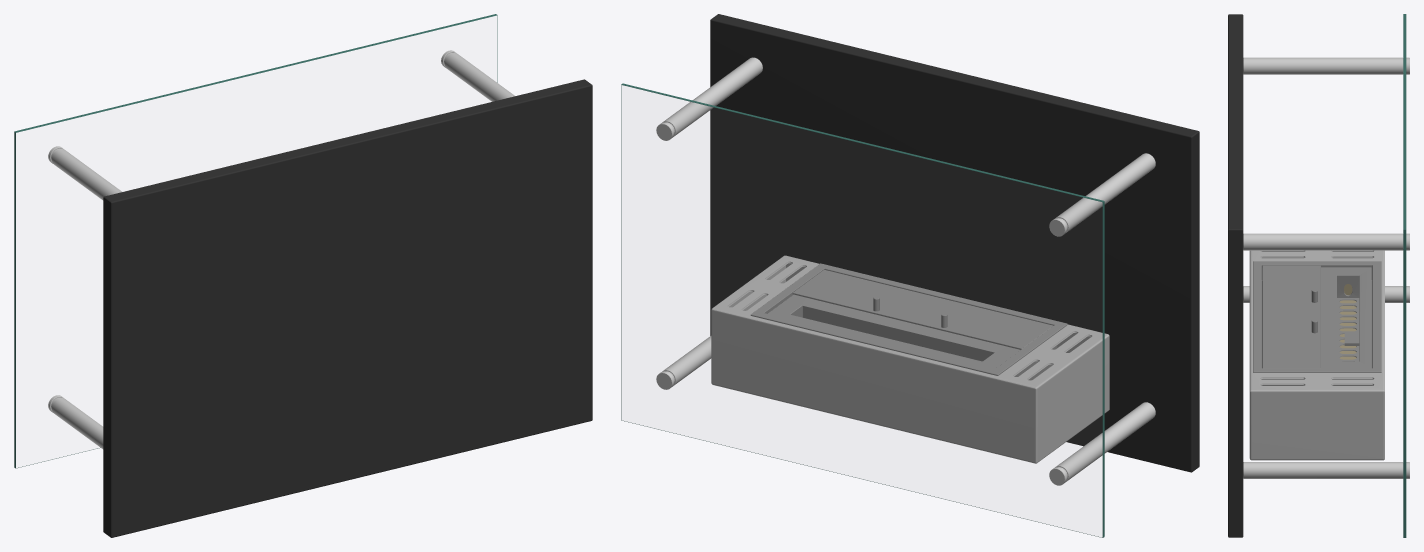
The model's file is bio-10-008_1.gltf.
The picture shows the model from 3 angles, left to right: view 1: azimuth 30°, elevation 25°; view 2: azimuth 150°, elevation 25°; view 3: azimuth 270°, elevation 25°; orthographic projection. The views are drawn at different scales.
Parts seen in each view (by area): view 1: 4ae494c8-d740-46ce-be52-f519e1074127; view 2: 4ae494c8-d740-46ce-be52-f519e1074127; view 3: 4ae494c8-d740-46ce-be52-f519e1074127.
Part boxes in pixels (x1=…): 4ae494c8-d740-46ce-be52-f519e1074127: x1=14, y1=14, x2=592, y2=537; 4ae494c8-d740-46ce-be52-f519e1074127: x1=621, y1=14, x2=1199, y2=537; 4ae494c8-d740-46ce-be52-f519e1074127: x1=1228, y1=14, x2=1409, y2=537.
Size of the model in its own units: 0.6 by 0.4 by 0.2137.
